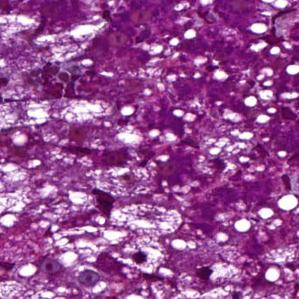ballooning: (103, 202, 184, 276)
